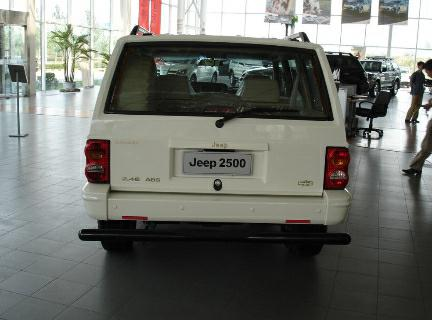Jeep-北京JEEP: (82, 28, 352, 267)
